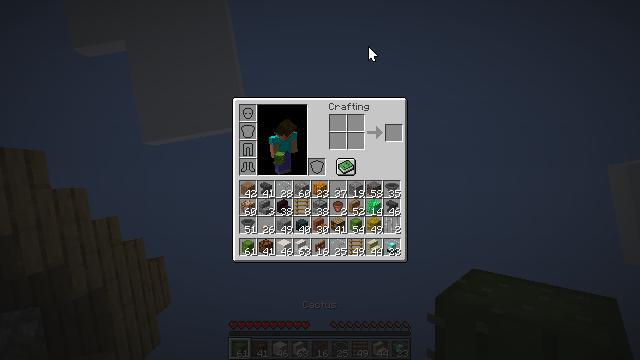cursor: (368, 46, 378, 62)
